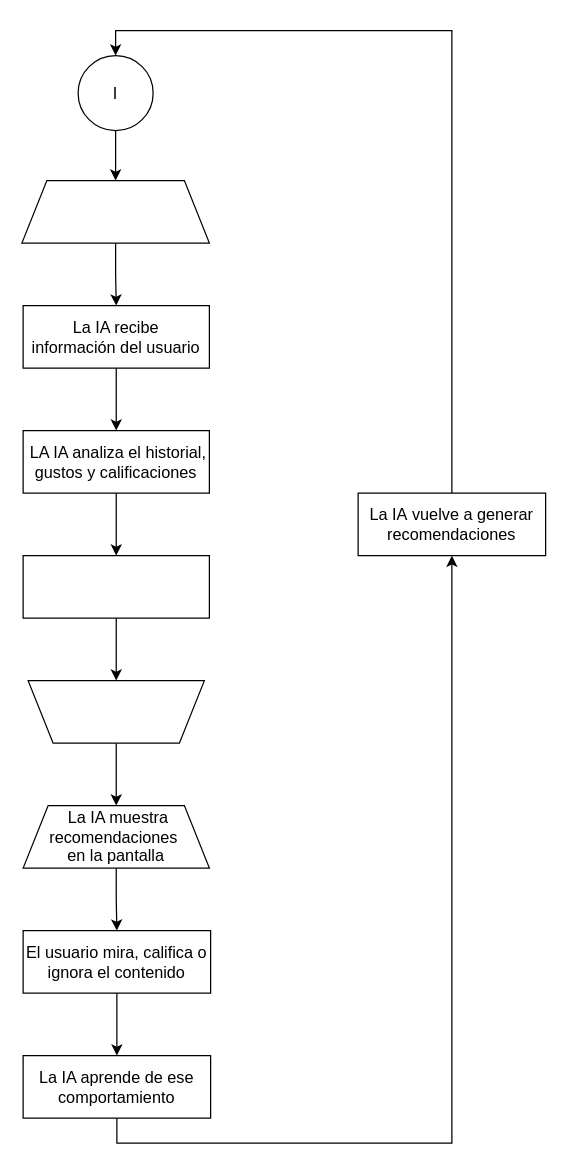
Some shapes in this 568 by 1175 pixel diagram are drawn without their labels. The box of each missing label's shape, as (x1, y1, x2, y2) in pixels:
El usuario inicia sesión: (21, 179, 209, 243)
La IA busca contenido similar usando IA y TMDB: (22, 554, 209, 618)
La IA genera un ran-king personalizado de películas: (27, 679, 204, 743)
